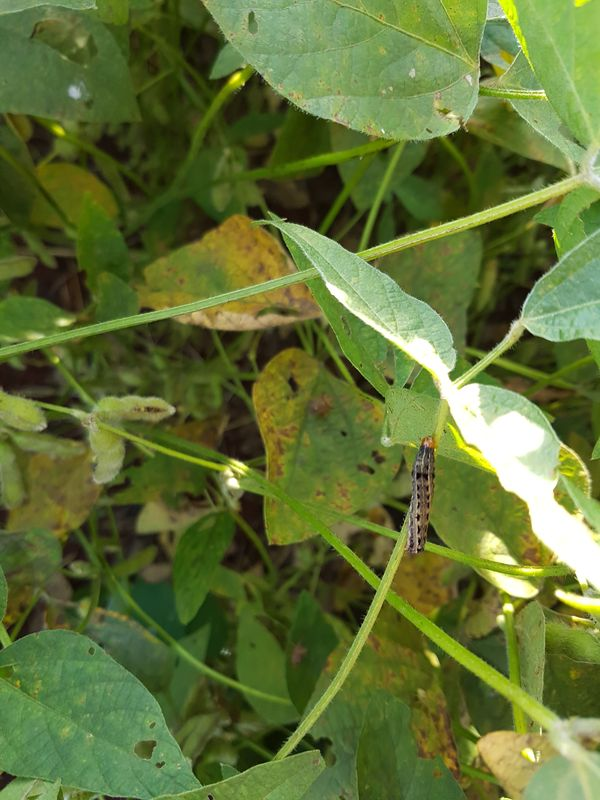Euschistus_heros_adulto: (300, 387, 343, 426)
Spodoptera_albula: (395, 424, 463, 563)
